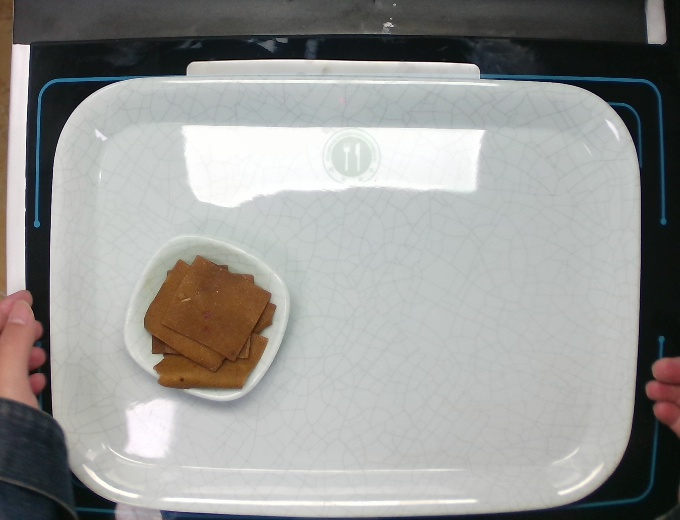JYsf-Si_Fang_Die: (109, 227, 300, 413)
